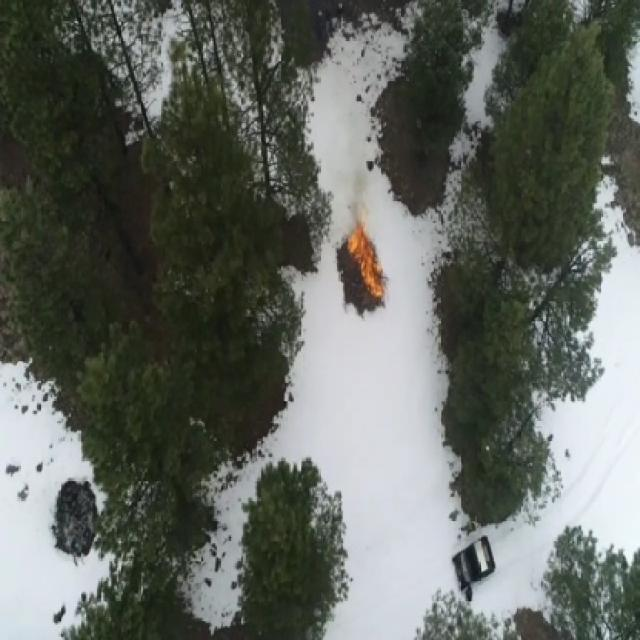Fire: (345, 214, 386, 301)
